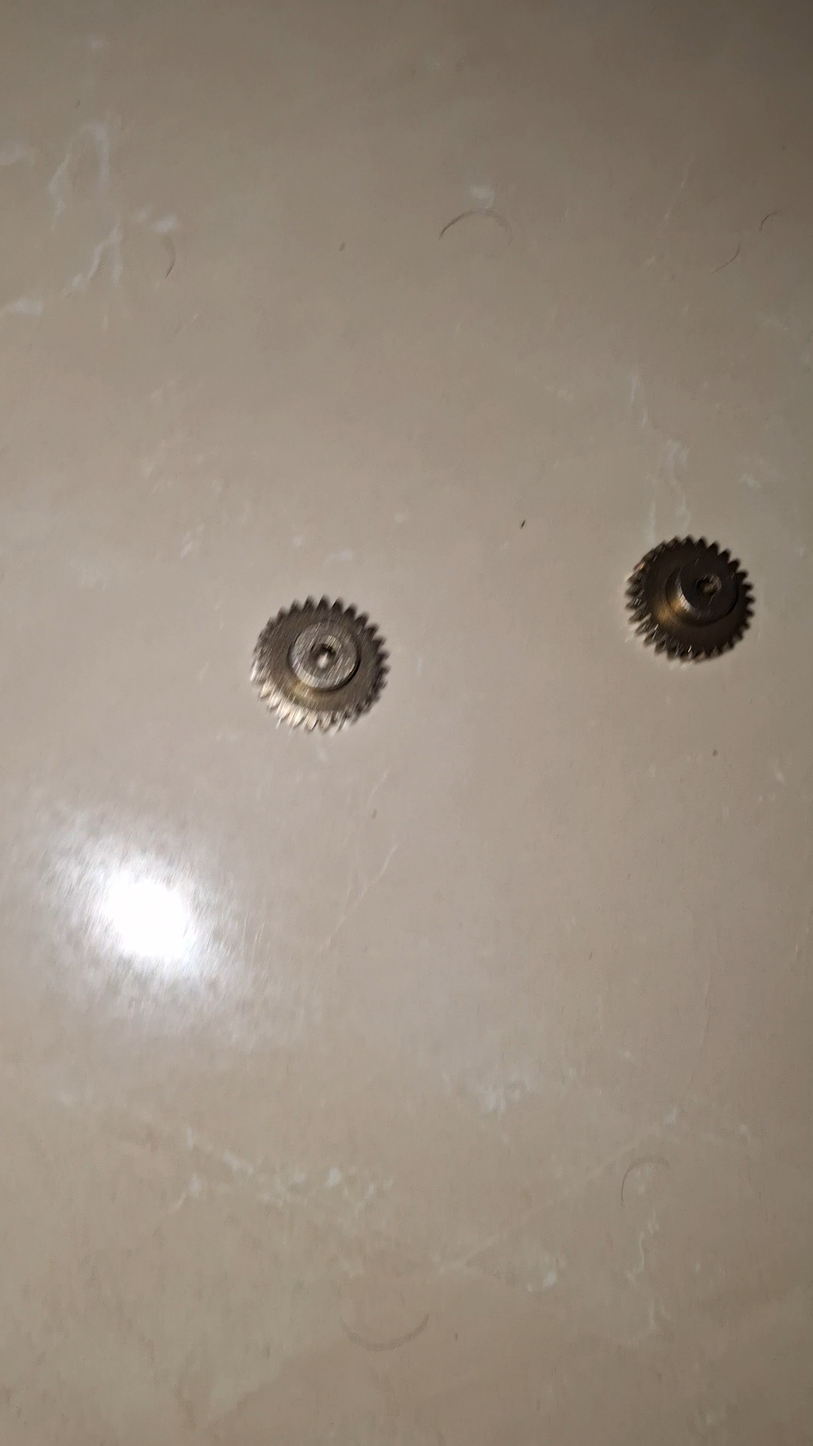spur gear: (251, 597, 387, 731), (627, 537, 752, 659)
